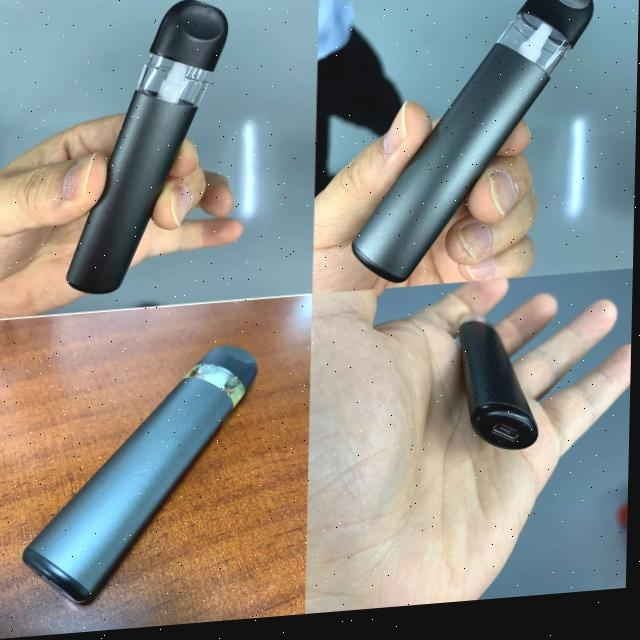vape: (351, 0, 593, 293), (27, 348, 260, 614), (54, 2, 246, 301), (457, 323, 544, 458)
